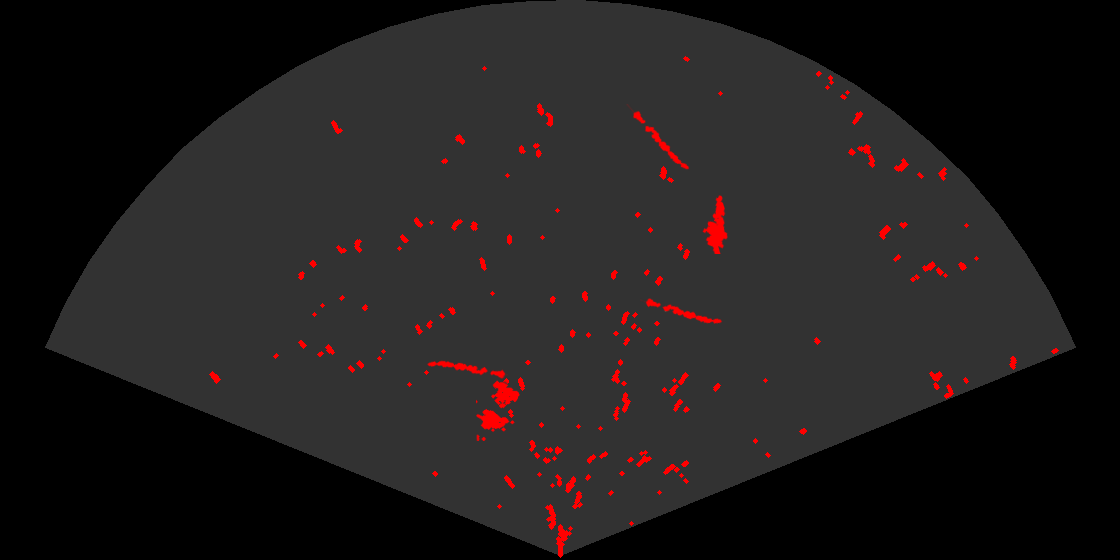cage: (476, 379, 521, 441)
chain: (625, 104, 691, 171), (640, 297, 724, 325), (425, 359, 508, 380)
frogman: (701, 193, 729, 254)
